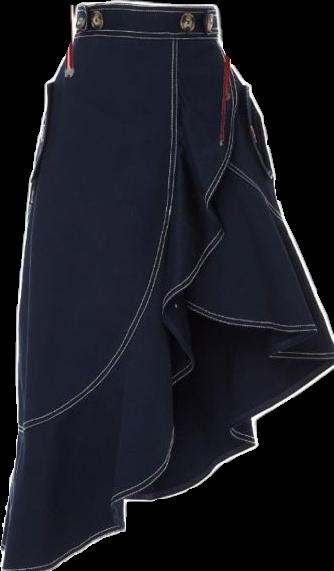Hemline: (4, 38, 240, 570), (2, 295, 333, 570)
Waistline: (12, 35, 178, 431), (69, 0, 218, 12), (69, 29, 221, 40)
